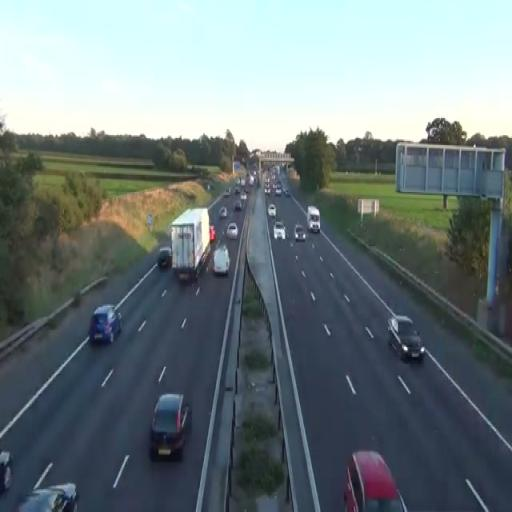Car: (344, 450, 408, 511), (149, 392, 192, 461), (387, 315, 424, 362), (90, 303, 122, 344), (0, 452, 14, 496), (213, 246, 230, 276), (158, 246, 172, 269), (294, 223, 307, 243), (274, 220, 286, 240), (226, 222, 238, 240), (268, 203, 276, 219)
Truck: (170, 208, 210, 283), (307, 206, 320, 232)
